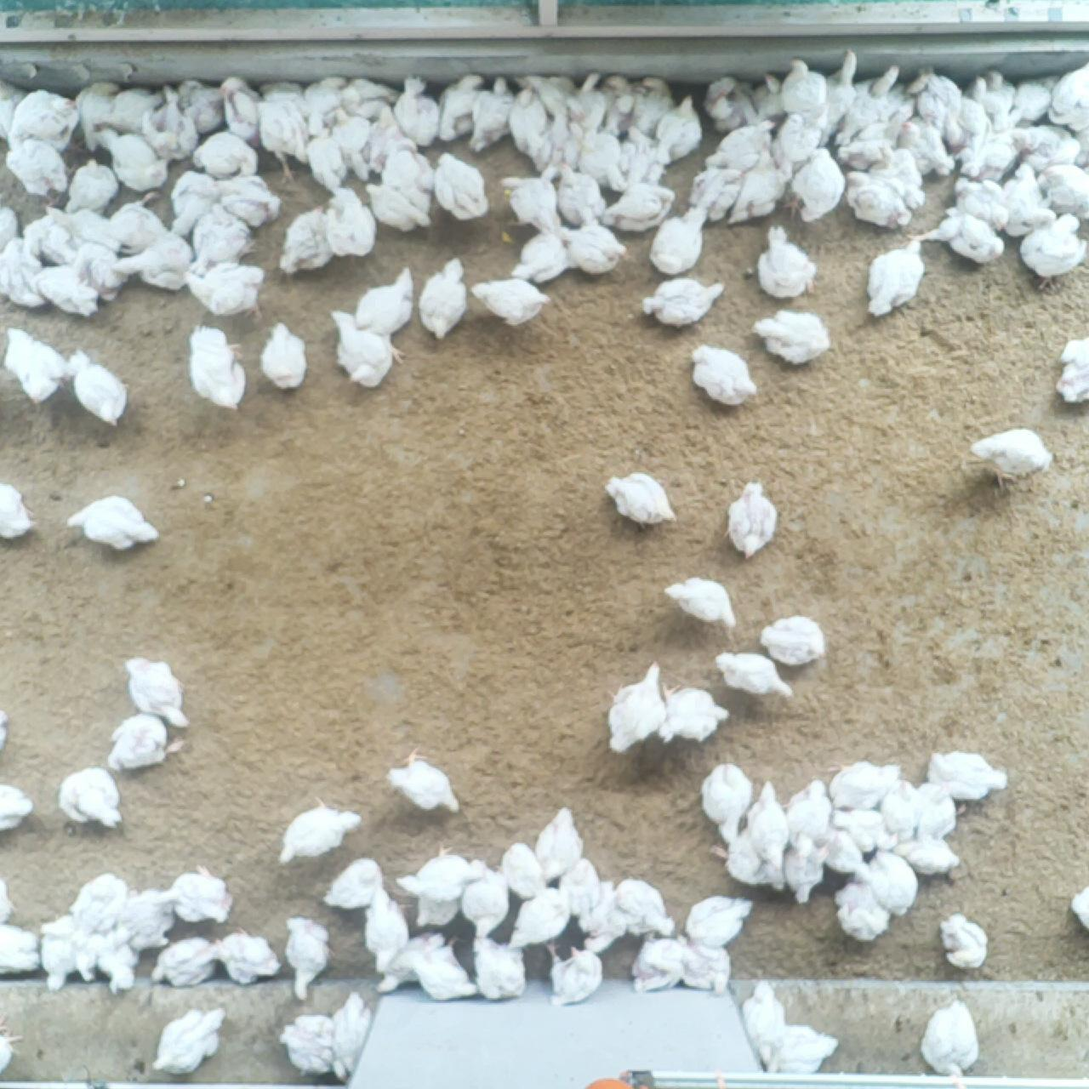chicken: (400, 847, 473, 931), (281, 795, 363, 866), (914, 208, 1007, 267), (606, 660, 664, 752), (921, 1002, 984, 1086), (68, 492, 157, 550), (4, 328, 69, 407), (385, 749, 466, 812), (403, 934, 479, 1001), (186, 329, 248, 408), (755, 230, 827, 297), (179, 263, 265, 319), (150, 1010, 227, 1072), (330, 312, 394, 386), (106, 713, 182, 774), (1021, 213, 1088, 280), (757, 307, 834, 365), (643, 275, 727, 328), (787, 147, 844, 225), (973, 431, 1058, 483), (14, 89, 79, 157), (282, 919, 337, 999), (724, 482, 781, 559), (126, 659, 191, 726), (538, 939, 603, 1006), (869, 240, 924, 319), (114, 233, 191, 289), (67, 352, 126, 425), (254, 100, 309, 178), (918, 67, 970, 149), (765, 1023, 839, 1080), (926, 752, 1005, 805), (352, 266, 413, 334), (468, 937, 531, 1002), (419, 259, 470, 339), (431, 153, 493, 218), (663, 687, 730, 747), (950, 176, 1018, 234), (7, 138, 70, 200), (194, 205, 254, 270), (829, 760, 904, 812), (702, 760, 750, 841), (603, 180, 677, 232), (282, 204, 339, 271), (604, 474, 681, 523), (25, 267, 102, 316), (648, 210, 708, 272), (502, 178, 563, 238), (60, 768, 123, 826), (113, 196, 171, 259), (998, 167, 1049, 238), (693, 348, 755, 406), (685, 897, 755, 948), (536, 810, 584, 884), (748, 780, 789, 866), (37, 915, 84, 990), (1008, 120, 1086, 165), (358, 895, 403, 973), (954, 127, 1021, 179), (75, 875, 130, 938), (167, 870, 231, 924), (664, 577, 734, 626), (218, 928, 277, 986), (334, 993, 374, 1078), (713, 654, 790, 698), (475, 278, 547, 325), (110, 133, 168, 191), (24, 206, 83, 263), (761, 613, 824, 666), (836, 877, 887, 942), (744, 983, 787, 1060), (895, 122, 954, 178), (584, 883, 631, 953), (68, 241, 124, 299), (519, 887, 572, 948), (460, 866, 506, 935), (710, 121, 782, 165), (328, 185, 373, 255), (973, 71, 1020, 138), (848, 173, 904, 229), (562, 220, 619, 275), (875, 145, 928, 204), (657, 100, 705, 165), (382, 142, 432, 204), (157, 939, 224, 985), (83, 932, 135, 991), (863, 852, 915, 911), (212, 177, 281, 221), (438, 73, 482, 142), (96, 89, 163, 134), (503, 838, 550, 902), (829, 812, 903, 852), (260, 324, 306, 388), (303, 129, 351, 190), (328, 857, 384, 909), (219, 78, 262, 145), (472, 77, 512, 149), (150, 91, 194, 156), (619, 881, 670, 937), (197, 132, 257, 179), (174, 172, 215, 240), (1002, 80, 1061, 127), (363, 182, 426, 226), (679, 940, 729, 995), (784, 60, 828, 122), (830, 49, 859, 143), (399, 74, 439, 142), (788, 783, 830, 847), (705, 79, 762, 126), (912, 787, 963, 839), (580, 134, 630, 187), (938, 917, 988, 970), (638, 934, 687, 988), (858, 64, 893, 139), (742, 160, 787, 218), (288, 1018, 338, 1070), (556, 168, 604, 222), (182, 77, 229, 132), (620, 126, 663, 186), (1044, 71, 1089, 128), (518, 231, 568, 282), (716, 834, 765, 886), (818, 829, 870, 878), (4, 237, 41, 305), (511, 94, 548, 162), (256, 81, 320, 120), (521, 76, 579, 119), (70, 162, 117, 215), (694, 166, 740, 220), (556, 855, 596, 914), (784, 841, 821, 904), (78, 80, 111, 150), (1042, 165, 1089, 214), (73, 206, 118, 256), (778, 117, 822, 168), (902, 836, 957, 874), (887, 82, 926, 134), (336, 119, 372, 174), (345, 73, 391, 116), (1, 924, 38, 976), (371, 122, 410, 170), (307, 84, 349, 128), (1, 479, 29, 544), (640, 77, 668, 139), (1, 780, 35, 830), (575, 71, 602, 131), (602, 80, 632, 134), (545, 118, 578, 167), (892, 782, 918, 841), (761, 73, 788, 122), (1, 79, 22, 140), (1059, 366, 1089, 406), (1, 1025, 20, 1078), (1, 202, 18, 259), (1069, 887, 1089, 932), (1063, 339, 1089, 365)
